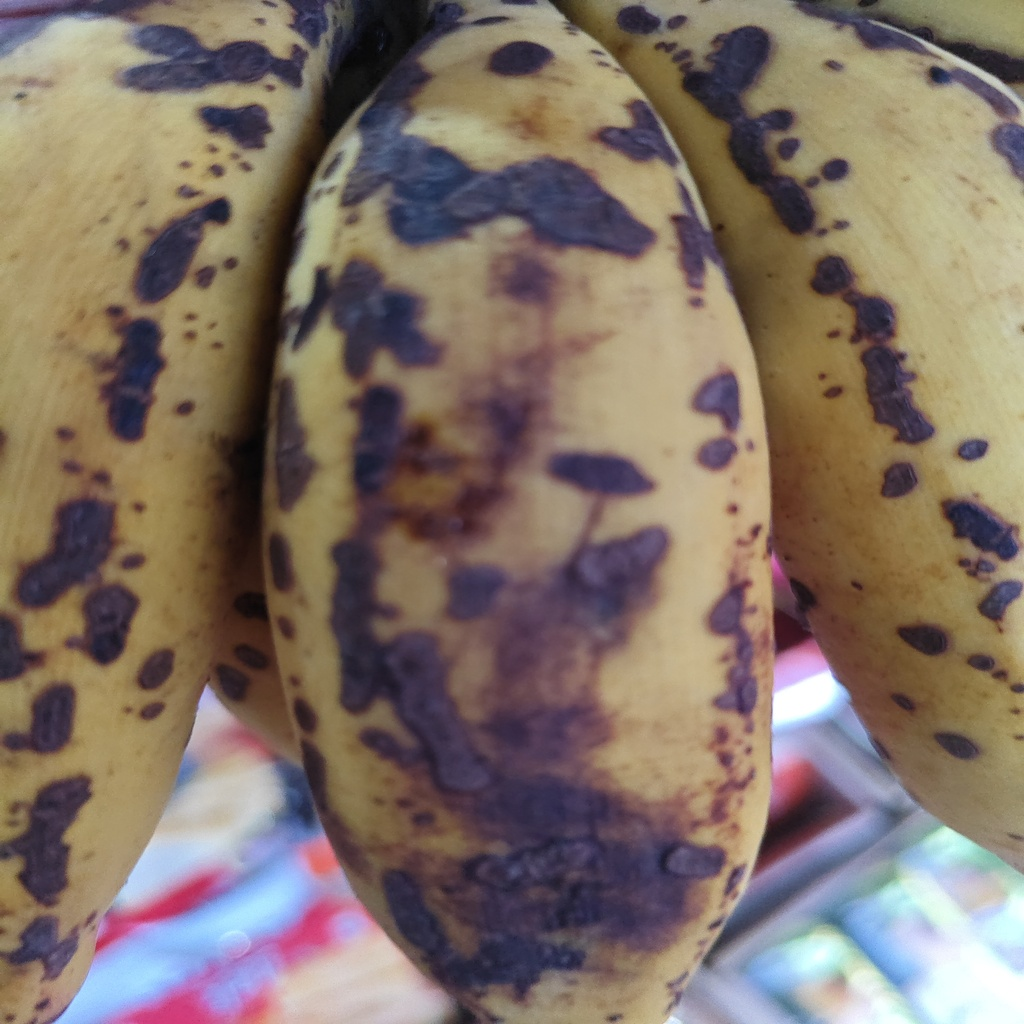unhealthy: (255, 25, 769, 1009), (581, 4, 1024, 872), (1, 2, 339, 1010)
